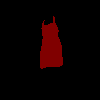vestito: (40, 16, 62, 68)
